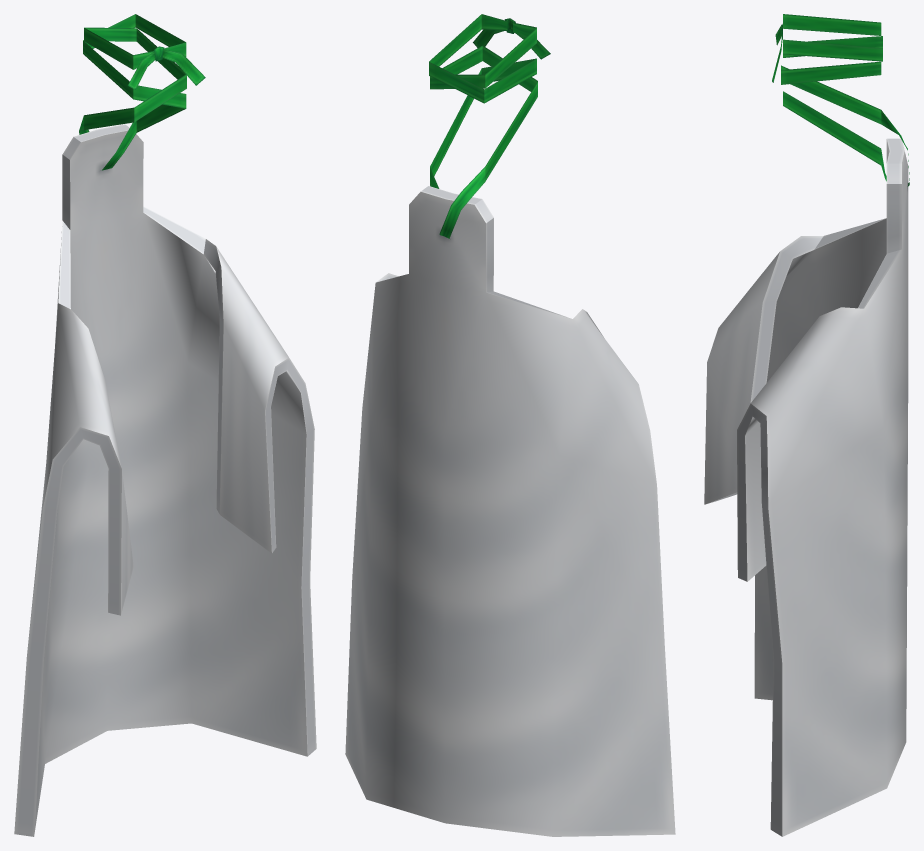
The model's file is jsf_PlasticBag_2PillarString.fbx.
3 views of the same model, side by side, from view 1: azimuth 30°, elevation 25°; view 2: azimuth 150°, elevation 25°; view 3: azimuth 270°, elevation 25° (orthographic). The views are drawn at different scales.
Visible parts, largest first — view 1: jsf_PlasticBag_2PillarString; view 2: jsf_PlasticBag_2PillarString; view 3: jsf_PlasticBag_2PillarString.
Part boxes in pixels (box(x1,y1,x2,y2)): jsf_PlasticBag_2PillarString: box(14, 14, 316, 836); jsf_PlasticBag_2PillarString: box(345, 14, 675, 836); jsf_PlasticBag_2PillarString: box(704, 14, 909, 836).
Bounding box in the file's own units: 18.78 × 43.4 × 10.89.
